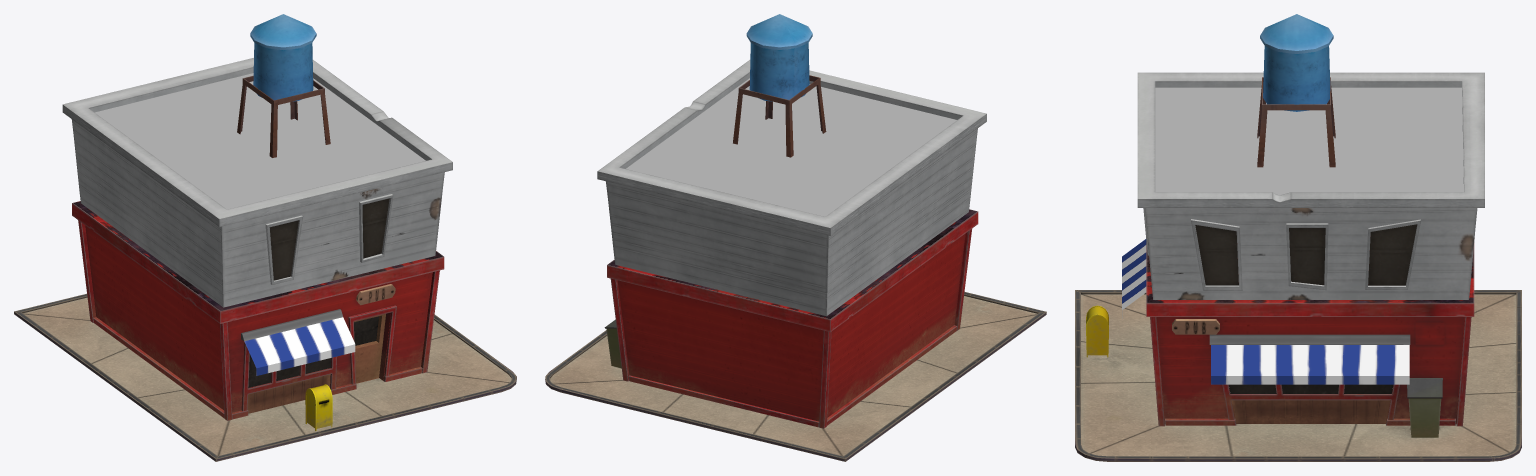
Rendered from HOS0610002.FBX.
3 renders of one model, left to right at view 1: azimuth 30°, elevation 25°; view 2: azimuth 150°, elevation 25°; view 3: azimuth 270°, elevation 25°, orthographic. The views are drawn at different scales.
Visible parts, largest first — view 1: smHOS0610002; view 2: smHOS0610002; view 3: smHOS0610002.
Part boxes in pixels (bbox=[...]): smHOS0610002: bbox=[14, 14, 516, 461]; smHOS0610002: bbox=[545, 14, 1046, 461]; smHOS0610002: bbox=[1075, 14, 1521, 461].
Bounding box in the file's own units: 1034 × 1056 × 1156.
1 material, 1 textured.
